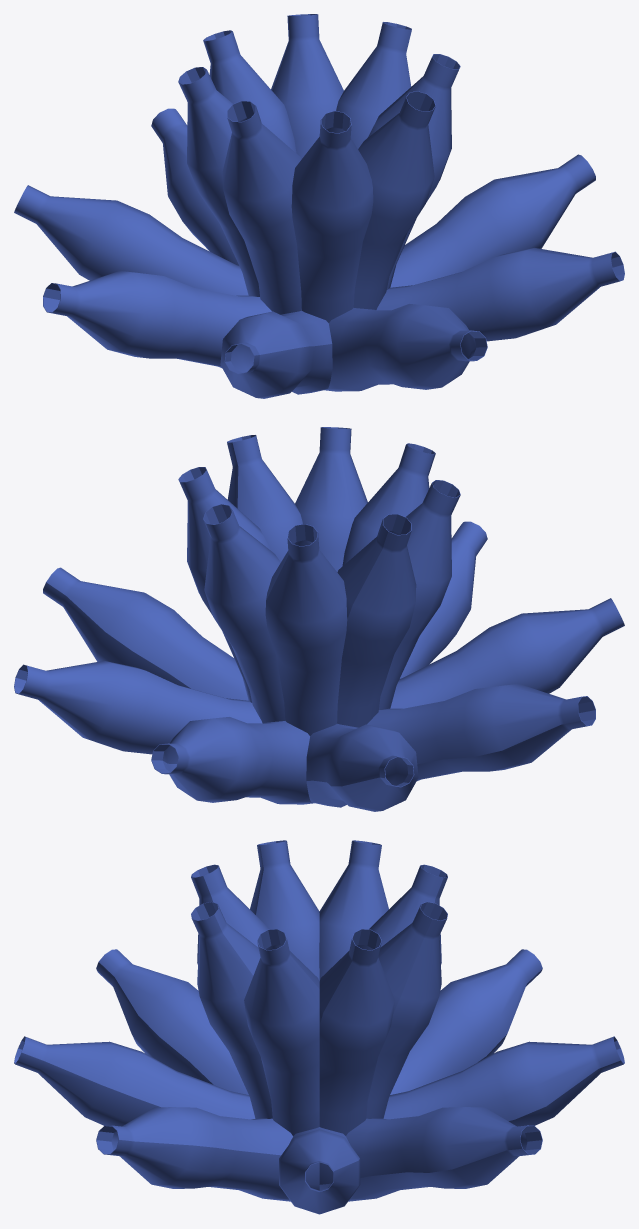
Rendered from bottleWaterlilyBush.FBX.
The picture shows the model from 3 angles, top to bottom: view 1: azimuth 30°, elevation 25°; view 2: azimuth 150°, elevation 25°; view 3: azimuth 270°, elevation 25°; orthographic projection. The views are drawn at different scales.
Visible parts, largest first — view 1: Chunk_1; view 2: Chunk_1; view 3: Chunk_1.
Part boxes in pixels (left/top/right/bottom): Chunk_1: left=14, top=14, right=624, bottom=398; Chunk_1: left=14, top=427, right=624, bottom=811; Chunk_1: left=14, top=840, right=624, bottom=1214.
Size of the model in its own units: 1.86 by 1.86 by 1.03.
